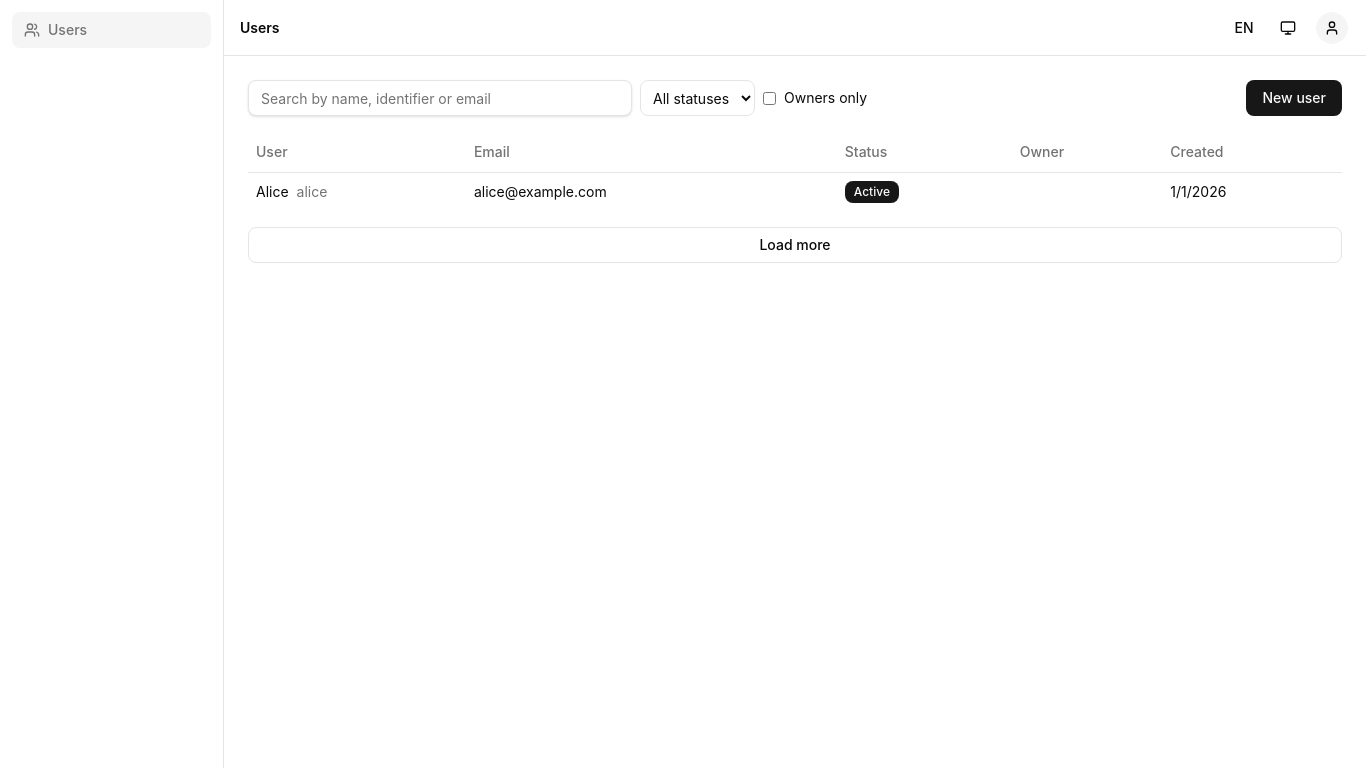
Test: /users › paginates with load more
Expected: the link "Alice" is shown, [256, 182, 327, 200]
Click the button "Load more" at x=795, y=244, box [248, 226, 1342, 262]
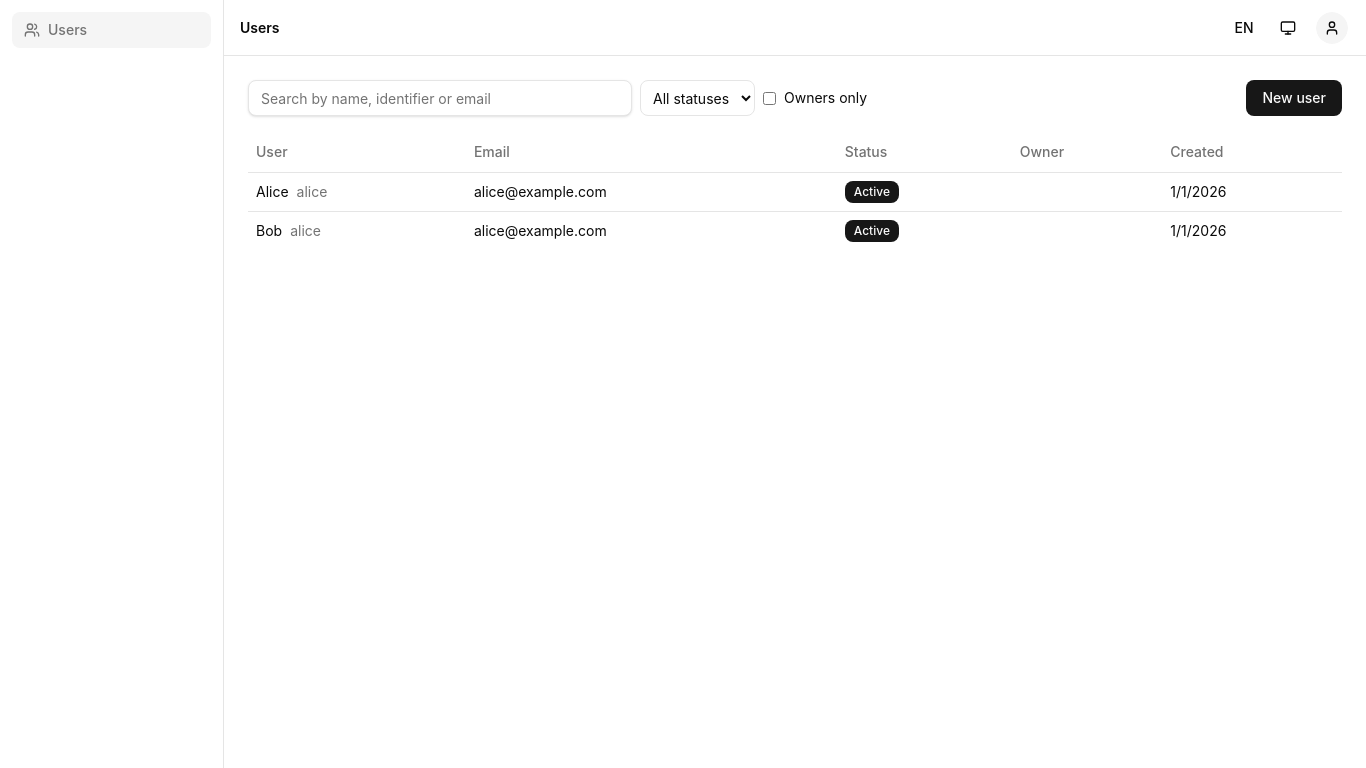
Expected: the link "Alice" is shown, [256, 182, 327, 200]
Expected: the link "Bob" is shown, [256, 222, 321, 238]
